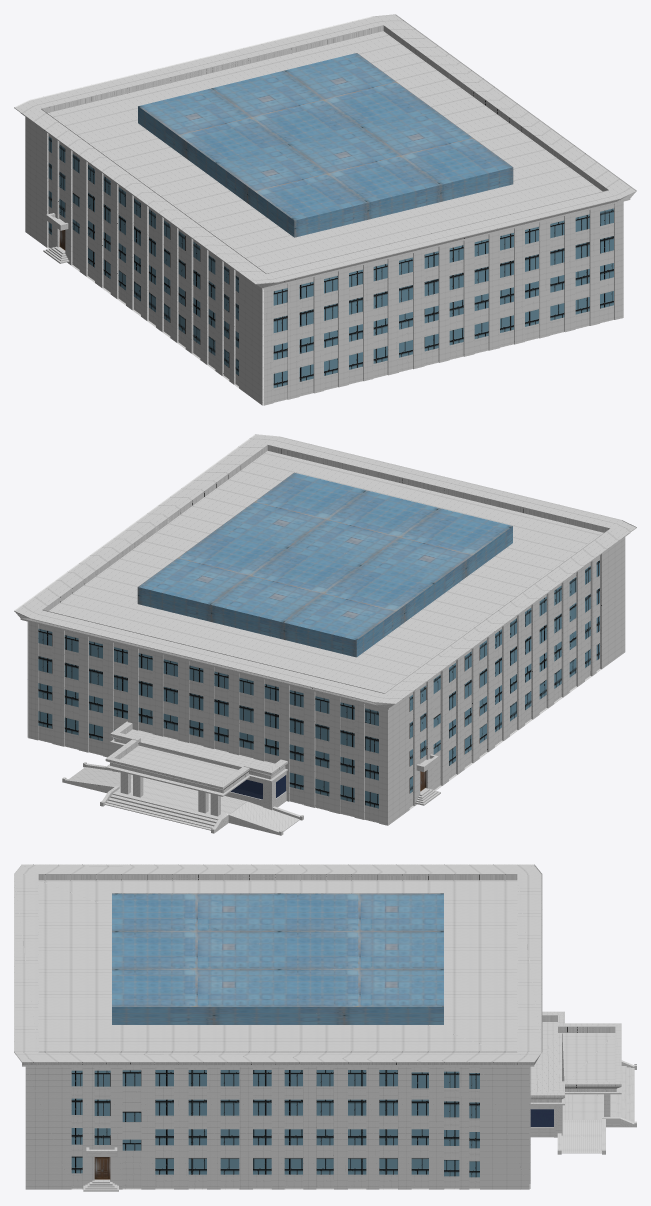
File: 研发楼.fbx
3 views of the same model, one above another, from view 1: azimuth 30°, elevation 25°; view 2: azimuth 150°, elevation 25°; view 3: azimuth 270°, elevation 25° (orthographic). The views are drawn at different scales.
Parts seen in each view (by area): view 1: Box034, Box001, Box035, Box027; view 2: Box027, Box034, Box035, Box004, Box006, Box003, Box002, Box013, Box008; view 3: Box034, Box001, Box035, Box004, Box003, Box006, Box008, Box002.
Part boxes in pixels (x1,y1,x2,y2): Box034: (14, 14, 636, 289); Box001: (262, 201, 623, 405); Box035: (138, 53, 513, 237); Box027: (25, 117, 613, 405); Box027: (28, 537, 625, 825); Box034: (14, 434, 636, 709); Box035: (137, 472, 512, 657); Box004: (105, 739, 249, 796); Box006: (104, 777, 246, 830); Box003: (110, 721, 287, 782); Box002: (112, 743, 286, 810); Box013: (231, 801, 299, 831); Box008: (69, 767, 132, 786); Box034: (14, 864, 542, 1066); Box001: (25, 1066, 529, 1189); Box035: (112, 893, 443, 1024); Box004: (562, 1023, 621, 1094); Box003: (530, 1011, 564, 1105); Box006: (562, 1066, 634, 1122); Box008: (561, 1120, 601, 1153); Box002: (530, 1105, 562, 1137).
Bounding box in the file's own units: 59.01 × 20.6 × 78.52.
